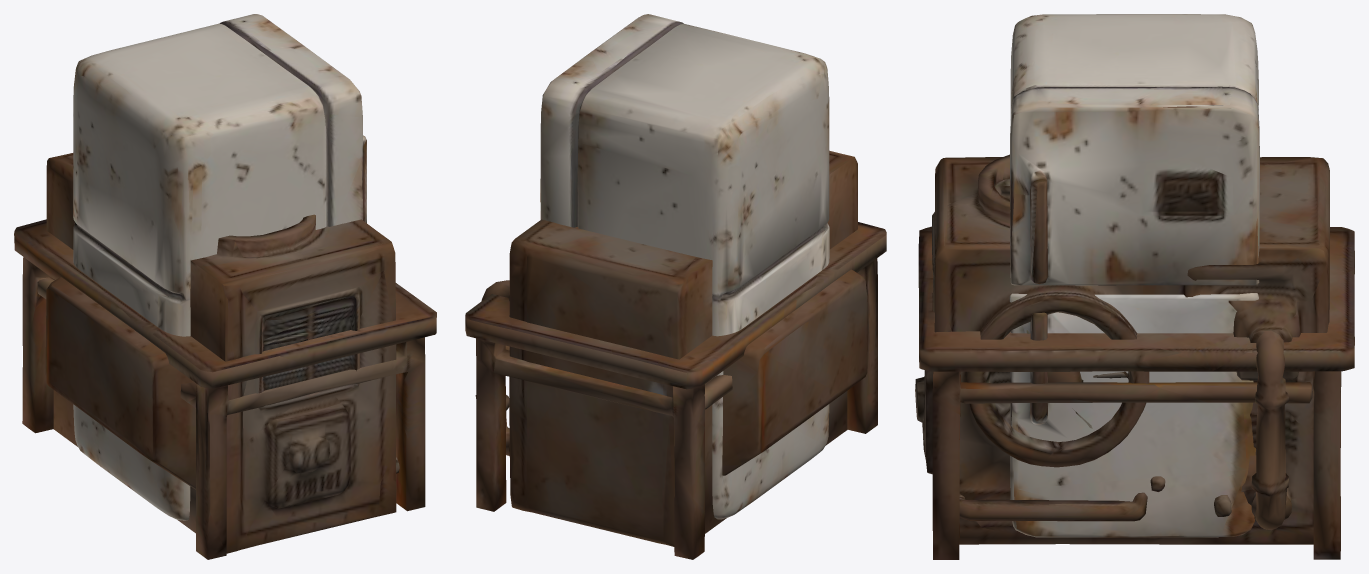
Rendered from rusted+appliances+3d+model.fbx.
3 views of the same model, side by side, from view 1: azimuth 30°, elevation 25°; view 2: azimuth 150°, elevation 25°; view 3: azimuth 270°, elevation 25° (orthographic). The views are drawn at different scales.
Visible parts, largest first — view 1: tripo_node_28113516.004, tripo_node_28113516.003, tripo_node_28113516.002, tripo_node_28113516.001; view 2: tripo_node_28113516.004, tripo_node_28113516.003, tripo_node_28113516.002, tripo_node_28113516.001; view 3: tripo_node_28113516.004, tripo_node_28113516.003, tripo_node_28113516.002.
Part boxes in pixels (x1,y1,x2,y2): tripo_node_28113516.004: (73,14,366,520); tripo_node_28113516.003: (46,153,399,553); tripo_node_28113516.002: (14,219,436,559); tripo_node_28113516.001: (45,277,195,489); tripo_node_28113516.004: (540,14,829,519); tripo_node_28113516.003: (475,150,857,546); tripo_node_28113516.002: (465,222,886,559); tripo_node_28113516.001: (722,269,867,475); tripo_node_28113516.004: (1009,14,1259,537); tripo_node_28113516.003: (915,154,1329,544); tripo_node_28113516.002: (918,226,1354,559).
Bounding box in the file's own units: 20.82 × 29.29 × 26.41.
